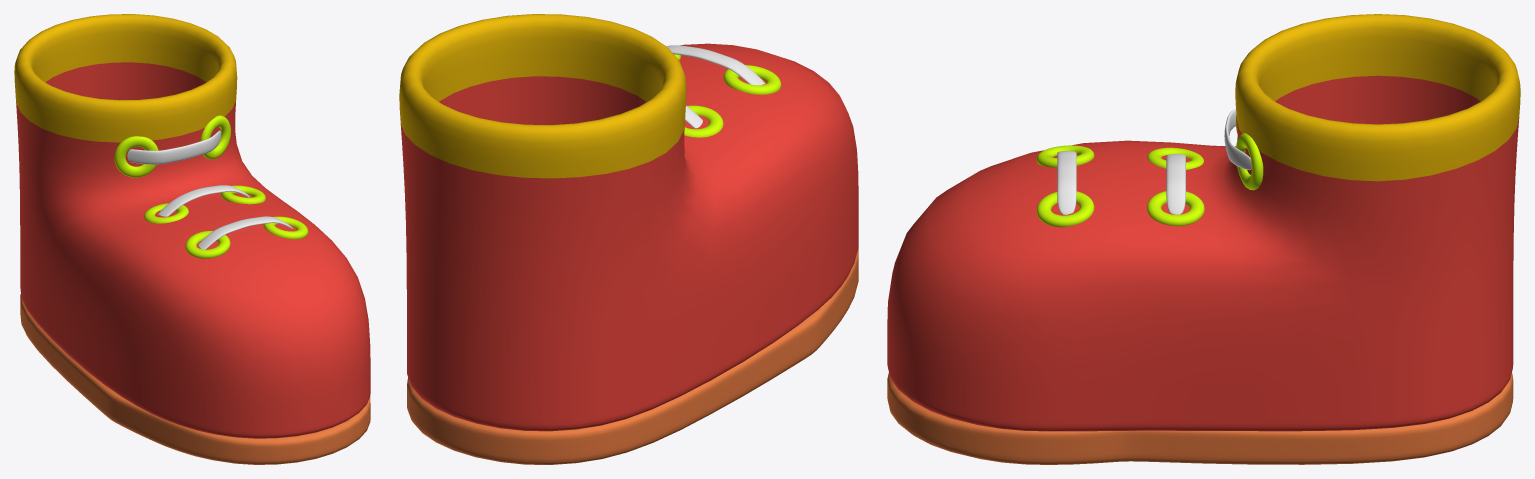
The model's file is Shoes.fbx.
3 renders of one model, left to right at view 1: azimuth 30°, elevation 25°; view 2: azimuth 150°, elevation 25°; view 3: azimuth 270°, elevation 25°, orthographic. The views are drawn at different scales.
Parts seen in each view (by area): view 1: Cylinder, Cylinder.001, Cylinder.003, Plane.002, Plane, Plane.001; view 2: Cylinder, Cylinder.001, Cylinder.003, Plane; view 3: Cylinder, Cylinder.001, Cylinder.003, Plane, Plane.001, Plane.002.
Boxes of the visible parts, bbox=[...] form: Cylinder: bbox=[14, 14, 370, 438]; Cylinder.001: bbox=[20, 294, 370, 464]; Cylinder.003: bbox=[114, 115, 308, 258]; Plane.002: bbox=[127, 130, 221, 164]; Plane: bbox=[198, 216, 293, 249]; Plane.001: bbox=[158, 185, 250, 216]; Cylinder: bbox=[399, 14, 858, 431]; Cylinder.001: bbox=[407, 248, 858, 464]; Cylinder.003: bbox=[674, 54, 781, 137]; Plane: bbox=[666, 45, 765, 85]; Cylinder: bbox=[887, 14, 1520, 431]; Cylinder.001: bbox=[887, 373, 1513, 464]; Cylinder.003: bbox=[1036, 115, 1263, 227]; Plane: bbox=[1057, 151, 1076, 214]; Plane.001: bbox=[1166, 154, 1185, 214]; Plane.002: bbox=[1224, 108, 1251, 169].
Bounding box in the file's own units: 2.07 × 2.5 × 4.22.
